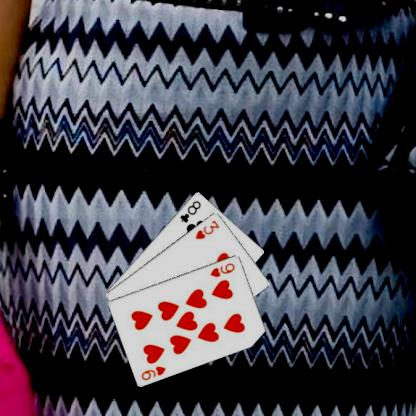3H: (193, 217, 221, 241)
8C: (177, 198, 203, 224)
9H: (139, 363, 168, 381), (208, 260, 236, 278)
